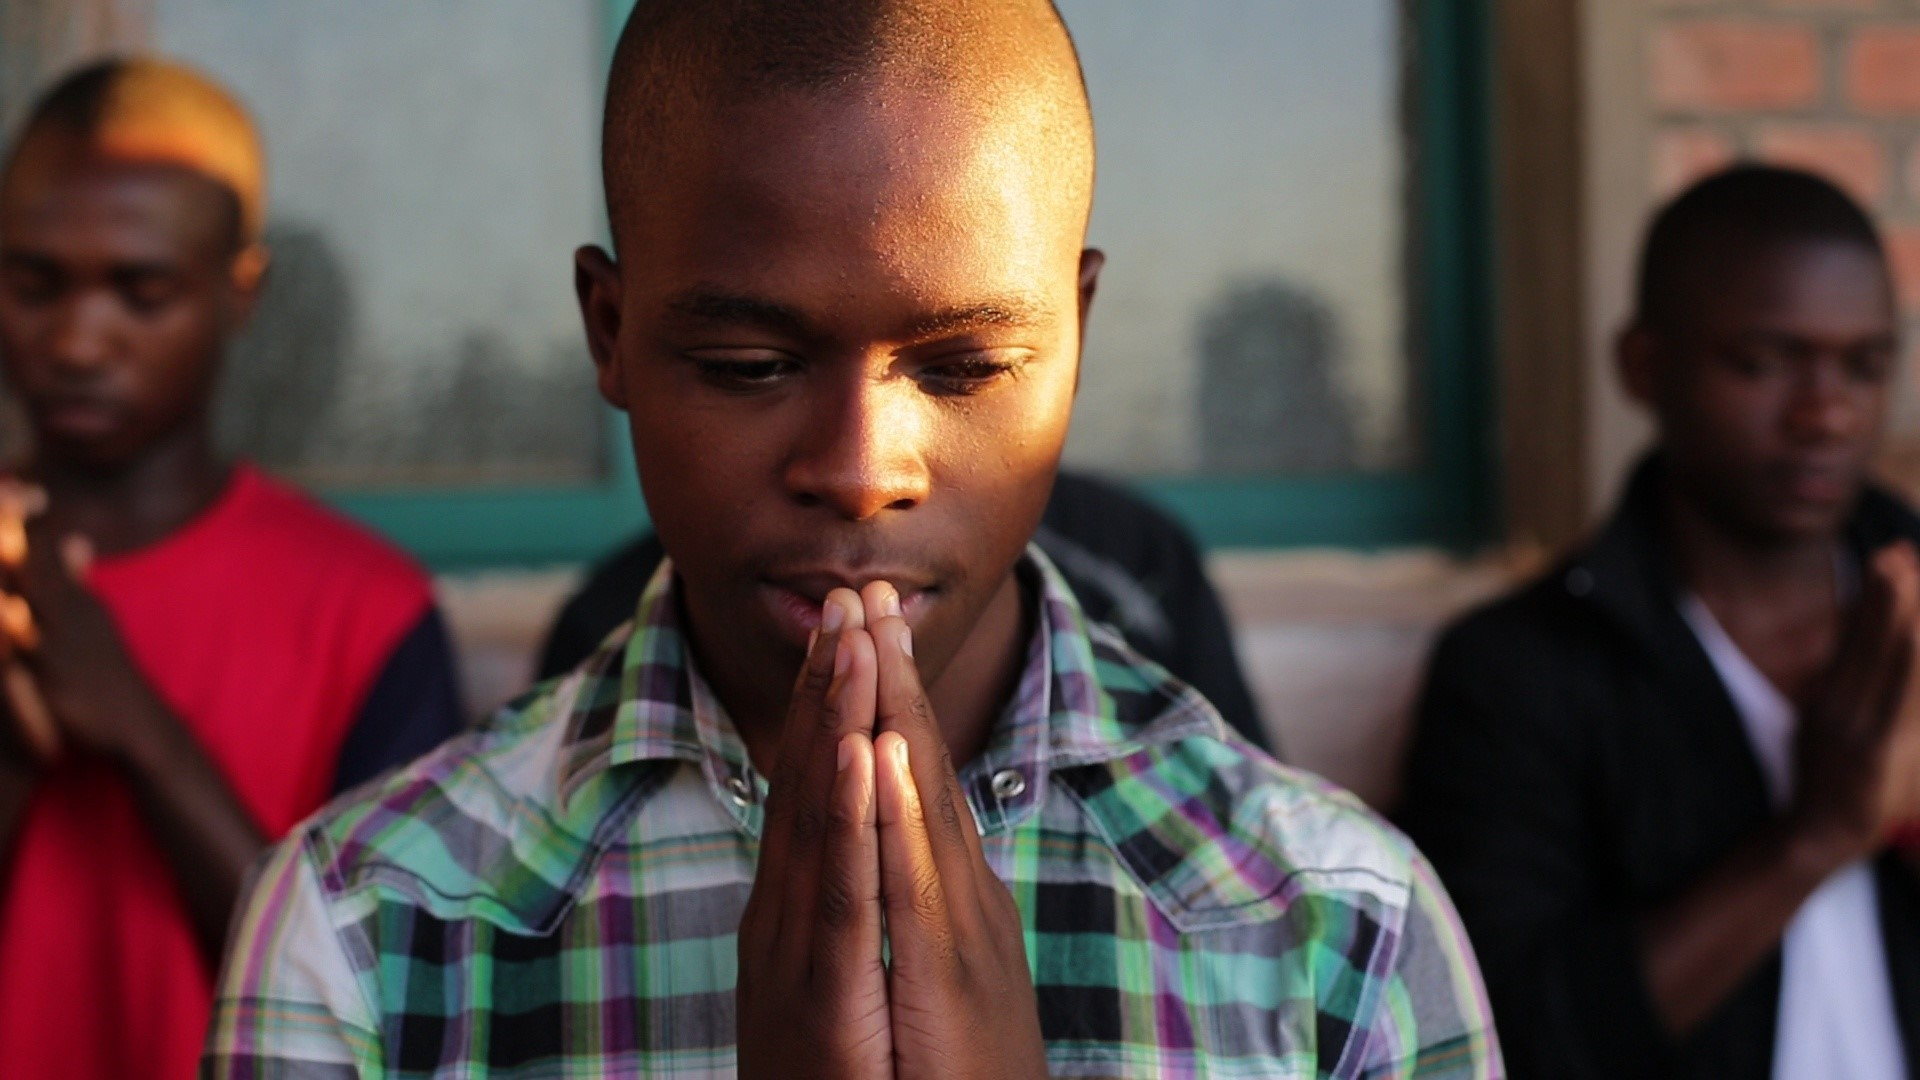face_no_mask: (579, 6, 1101, 686), (8, 52, 275, 454), (1612, 155, 1896, 532)
